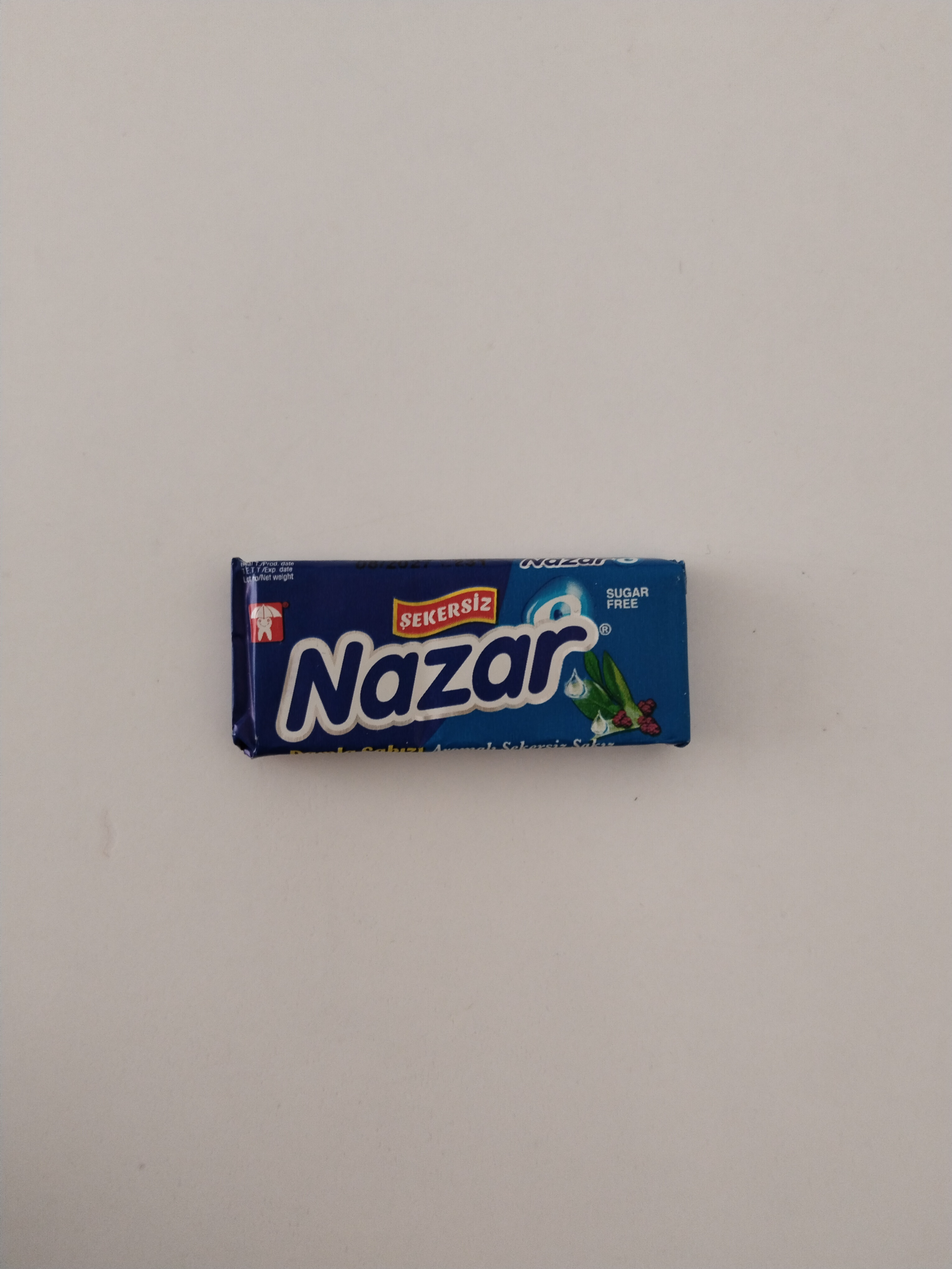mahmood_kahve: (231, 556, 689, 754)
